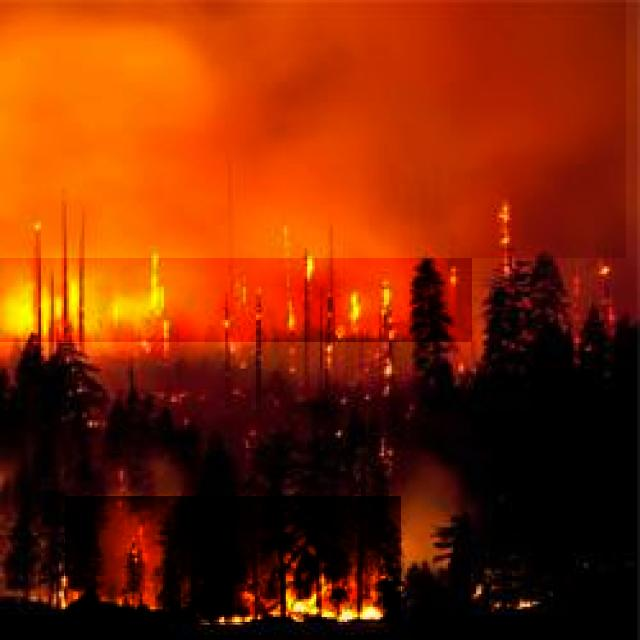Fire: (0, 248, 472, 342), (66, 496, 402, 623)
Smoke: (0, 0, 626, 258)
